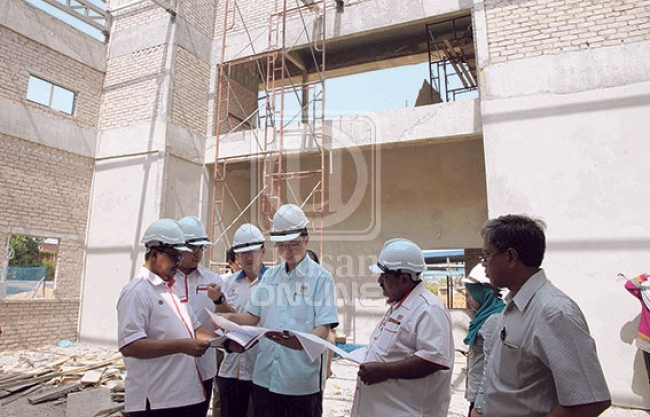No Safety Helmet: (482, 214, 546, 292)
Safety Helmet: (367, 233, 431, 299), (135, 215, 185, 282), (175, 210, 215, 279), (453, 256, 501, 313), (270, 202, 311, 264), (229, 221, 267, 275)
